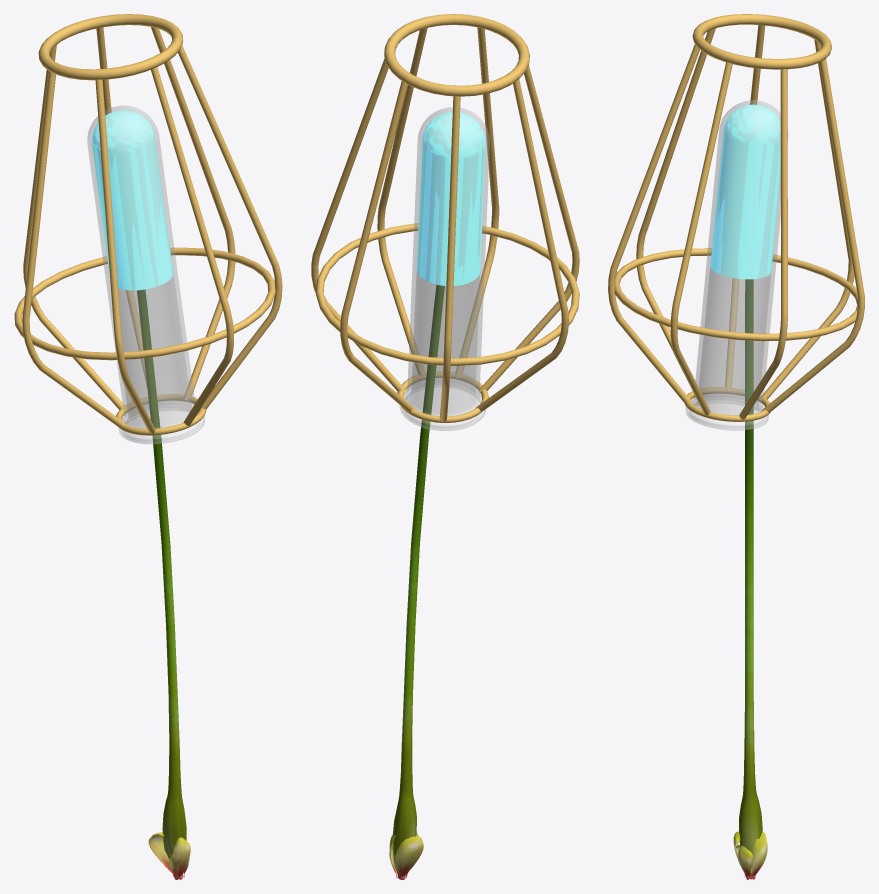
The picture shows the model from 3 angles, left to right: view 1: azimuth 30°, elevation 25°; view 2: azimuth 150°, elevation 25°; view 3: azimuth 270°, elevation 25°; orthographic projection. The views are drawn at different scales.
Parts seen in each view (by area): view 1: Stem; view 2: Stem; view 3: Stem.
Boxes of the visible parts, bbox=[...] form: Stem: bbox=[14, 14, 282, 879]; Stem: bbox=[311, 14, 579, 879]; Stem: bbox=[608, 14, 864, 879].
Bounding box in the file's own units: 5.93 × 20.61 × 5.85.
Materials: 5 (3 with a texture image).
